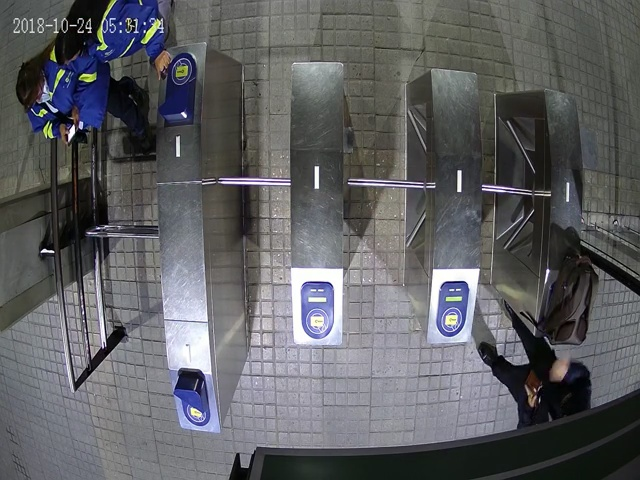Chaleco_azul: (15, 41, 148, 141), (54, 1, 172, 78)
